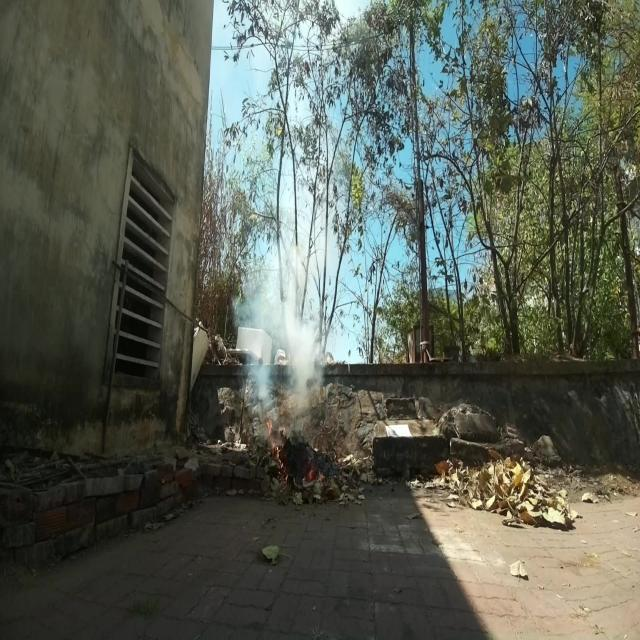Fire: (266, 418, 322, 488)
Smoke: (233, 238, 329, 446)
